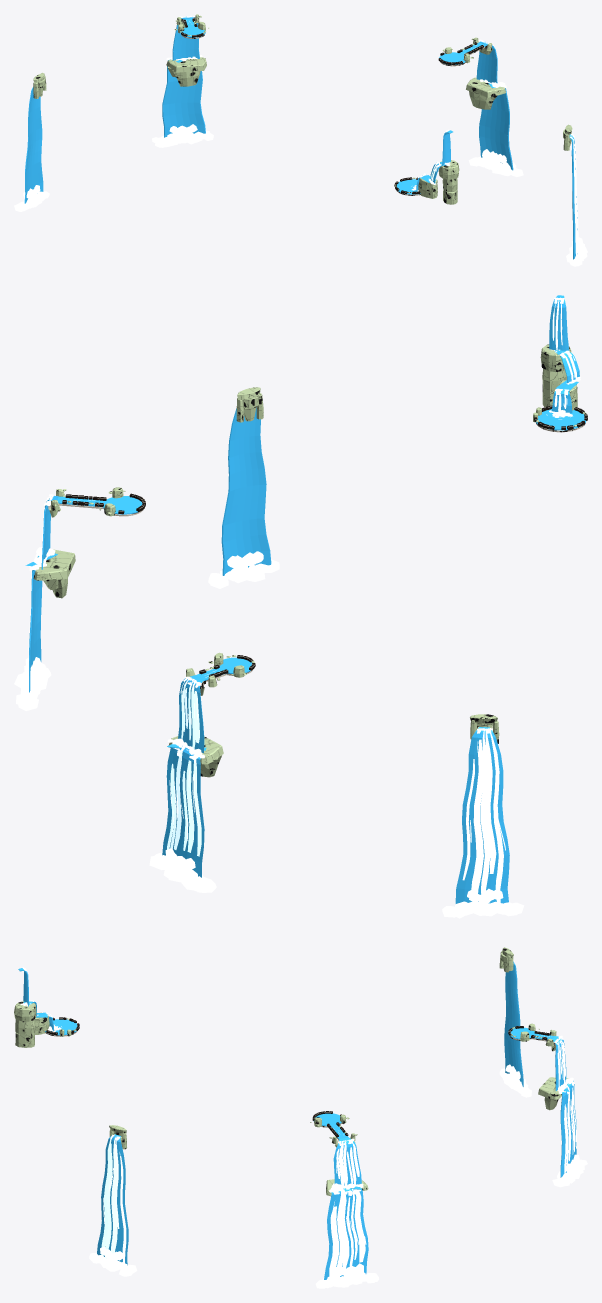
File: ILHA2_07_WATER_1d00de.fbx
3 renders of one model, top to bottom at view 1: azimuth 30°, elevation 25°; view 2: azimuth 150°, elevation 25°; view 3: azimuth 270°, elevation 25°, orthographic. The views are drawn at different scales.
Visible parts, largest first — view 1: DB_Water_SE__Water_DB, DB_Water_SW__Water_DB, DB_Water_SE__Foam, DB_Water_SW__Foam_g14_10, DB_Water_NW__Water_DB, DB_Water_SE__Cliff_Rock_DB, DB_Water_NW__Cliff_Rock_DB, DB_Water_SW__Foam_g14_9, DB_Water_SW__Cliff_Rock_DB_C, DB_Water_SE__Cliff_Rock_DB_Dark, DB_Water_SW__Cliff_Rock_DB_Dark, DB_Water_SE__Cliff_Rock_DB_Top (+2 smaller); view 2: DB_Water_SW__Water_DB, DB_Water_SE__Water_DB, DB_Water_SE__Water_Fall, DB_Water_SE__Foam, DB_Water_NW__Water_DB, DB_Water_SW__Foam_g14_10, DB_Water_SW__Foam_g14_9, DB_Water_SW__Cliff_Rock_DB_C, DB_Water_SE__Cliff_Rock_DB, DB_Water_NW__Cliff_Rock_DB, DB_Water_SW__Cliff_Rock_DB_Top; view 3: DB_Water_SW__Water_Fall, DB_Water_SW__Water_DB, DB_Water_SE__Water_DB, DB_Water_SW__Foam_g14_10, DB_Water_SE__Foam, DB_Water_SE__Water_Fall, DB_Water_SW__Foam_g14_9, DB_Water_NW__Cliff_Rock_DB, DB_Water_NW__Water_DB, DB_Water_SE__Cliff_Rock_DB.
Part boxes in pixels (bbox=[...]): DB_Water_SE__Water_DB: bbox=[24, 16, 205, 203]; DB_Water_SW__Water_DB: bbox=[439, 41, 577, 259]; DB_Water_SE__Foam: bbox=[14, 15, 213, 211]; DB_Water_SW__Foam_g14_10: bbox=[468, 39, 523, 176]; DB_Water_NW__Water_DB: bbox=[397, 130, 452, 194]; DB_Water_SE__Cliff_Rock_DB: bbox=[33, 15, 209, 98]; DB_Water_NW__Cliff_Rock_DB: bbox=[407, 166, 459, 194]; DB_Water_SW__Foam_g14_9: bbox=[566, 133, 587, 266]; DB_Water_SW__Cliff_Rock_DB_C: bbox=[444, 38, 572, 150]; DB_Water_SE__Cliff_Rock_DB_Dark: bbox=[38, 22, 200, 96]; DB_Water_SW__Cliff_Rock_DB_Dark: bbox=[442, 43, 571, 146]; DB_Water_SE__Cliff_Rock_DB_Top: bbox=[167, 14, 206, 68]; DB_Water_SW__Water_DB: bbox=[25, 407, 271, 692]; DB_Water_SE__Water_DB: bbox=[162, 657, 509, 903]; DB_Water_SE__Water_Fall: bbox=[167, 680, 503, 902]; DB_Water_SE__Foam: bbox=[149, 670, 524, 918]; DB_Water_NW__Water_DB: bbox=[536, 295, 586, 430]; DB_Water_SW__Foam_g14_10: bbox=[14, 494, 94, 710]; DB_Water_SW__Foam_g14_9: bbox=[208, 551, 279, 588]; DB_Water_SW__Cliff_Rock_DB_C: bbox=[33, 387, 263, 589]; DB_Water_SE__Cliff_Rock_DB: bbox=[168, 655, 499, 769]; DB_Water_NW__Cliff_Rock_DB: bbox=[533, 353, 586, 422]; DB_Water_SW__Cliff_Rock_DB_Top: bbox=[35, 487, 122, 575]; DB_Water_SW__Water_Fall: bbox=[101, 1137, 365, 1276]; DB_Water_SW__Water_DB: bbox=[97, 1113, 368, 1279]; DB_Water_SE__Water_DB: bbox=[504, 961, 576, 1177]; DB_Water_SW__Foam_g14_10: bbox=[315, 1128, 378, 1288]; DB_Water_SE__Foam: bbox=[499, 960, 587, 1187]; DB_Water_SE__Water_Fall: bbox=[557, 1039, 576, 1173]; DB_Water_SW__Foam_g14_9: bbox=[89, 1135, 137, 1276]; DB_Water_NW__Cliff_Rock_DB: bbox=[14, 1009, 76, 1036]; DB_Water_NW__Water_DB: bbox=[18, 968, 77, 1035]; DB_Water_SE__Cliff_Rock_DB: bbox=[499, 947, 561, 1099].
Size of the model in its own units: 293 by 137 by 331.
Materials: 5 (2 with a texture image).
